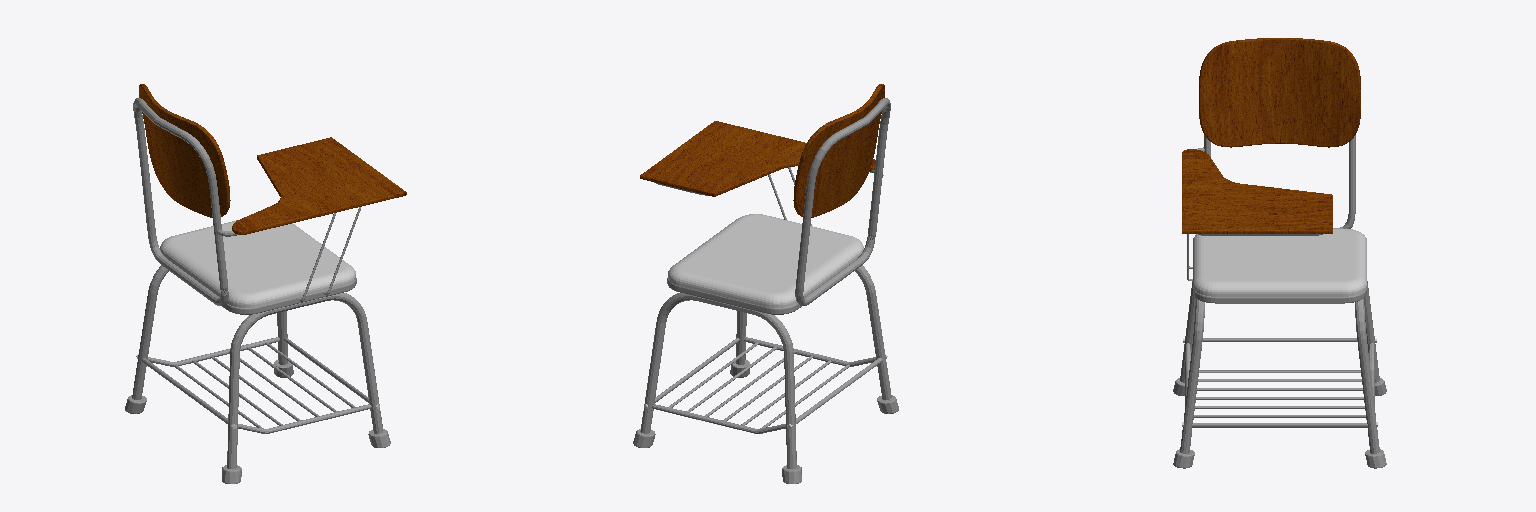
The picture shows the model from 3 angles: view 1: azimuth 30°, elevation 25°; view 2: azimuth 150°, elevation 25°; view 3: azimuth 270°, elevation 25°; orthographic projection.
Parts seen in each view (by area): view 1: Cube.001_Cube.002, Plane.004_Plane.009, Plane_Plane.014, Plane.002_Plane.006, Plane.001_Plane.020, Plane.008_Plane.015, Plane.007_Plane.022, Cube_Cube.001; view 2: Cube.001_Cube.002, Plane.004_Plane.009, Plane_Plane.014, Plane.002_Plane.006, Plane.001_Plane.020, Plane.008_Plane.015, Plane.007_Plane.022, Cube_Cube.001; view 3: Plane.002_Plane.006, Cube.001_Cube.002, Plane.004_Plane.009, Plane_Plane.014, Plane.007_Plane.022, Plane.008_Plane.015, Cube_Cube.001, Plane.001_Plane.020.
Part boxes in pixels (left/top/right/bottom): Cube.001_Cube.002: left=160, top=220, right=355, bottom=307; Plane.004_Plane.009: left=232, top=137, right=406, bottom=234; Plane_Plane.014: left=125, top=265, right=390, bottom=483; Plane.002_Plane.006: left=139, top=84, right=230, bottom=217; Plane.001_Plane.020: left=133, top=98, right=228, bottom=305; Plane.008_Plane.015: left=141, top=337, right=371, bottom=433; Plane.007_Plane.022: left=174, top=342, right=354, bottom=428; Cube_Cube.001: left=222, top=278, right=356, bottom=314; Cube.001_Cube.002: left=668, top=214, right=863, bottom=307; Plane.004_Plane.009: left=640, top=121, right=875, bottom=196; Plane_Plane.014: left=633, top=265, right=898, bottom=483; Plane.002_Plane.006: left=793, top=84, right=884, bottom=217; Plane.001_Plane.020: left=795, top=98, right=890, bottom=305; Plane.008_Plane.015: left=652, top=337, right=882, bottom=433; Plane.007_Plane.022: left=669, top=342, right=849, bottom=428; Cube_Cube.001: left=667, top=278, right=801, bottom=314; Plane.002_Plane.006: left=1199, top=38, right=1360, bottom=147; Cube.001_Cube.002: left=1193, top=228, right=1366, bottom=296; Plane.004_Plane.009: left=1182, top=149, right=1332, bottom=233; Plane_Plane.014: left=1173, top=281, right=1386, bottom=468; Plane.007_Plane.022: left=1194, top=370, right=1365, bottom=417; Plane.008_Plane.015: left=1185, top=338, right=1374, bottom=427; Cube_Cube.001: left=1193, top=289, right=1366, bottom=303; Plane.001_Plane.020: left=1204, top=135, right=1355, bottom=228.
Size of the model in its own units: 1.42 by 2.29 by 1.29.
Materials: 4 (2 with a texture image).